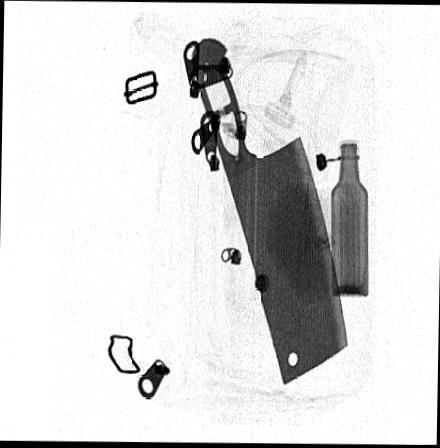Knife: (188, 36, 348, 388)
